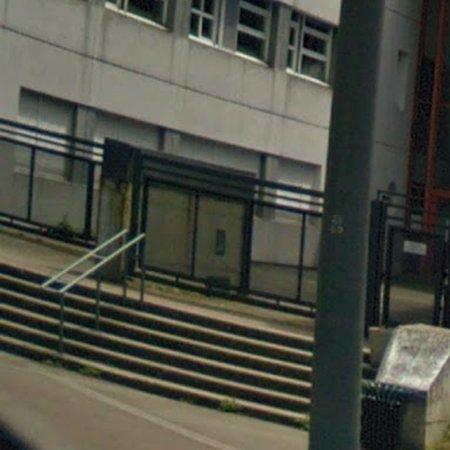stairs: (0, 266, 312, 428)
